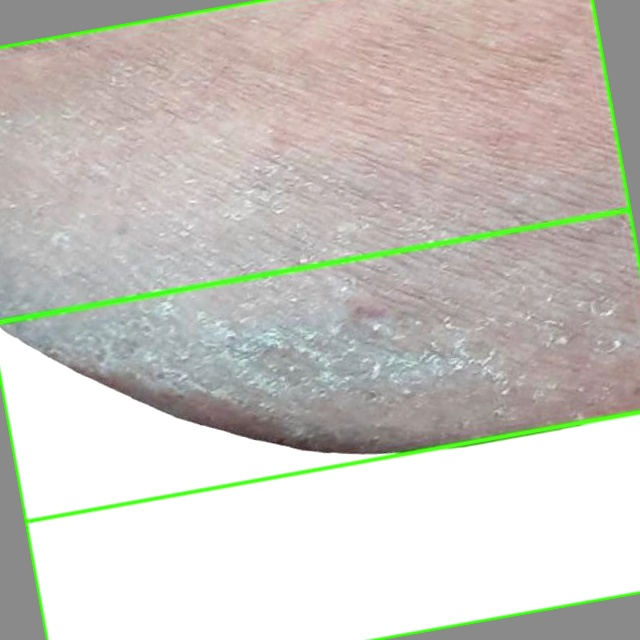Tinea Corporis: (0, 0, 639, 521), (0, 209, 639, 639)
